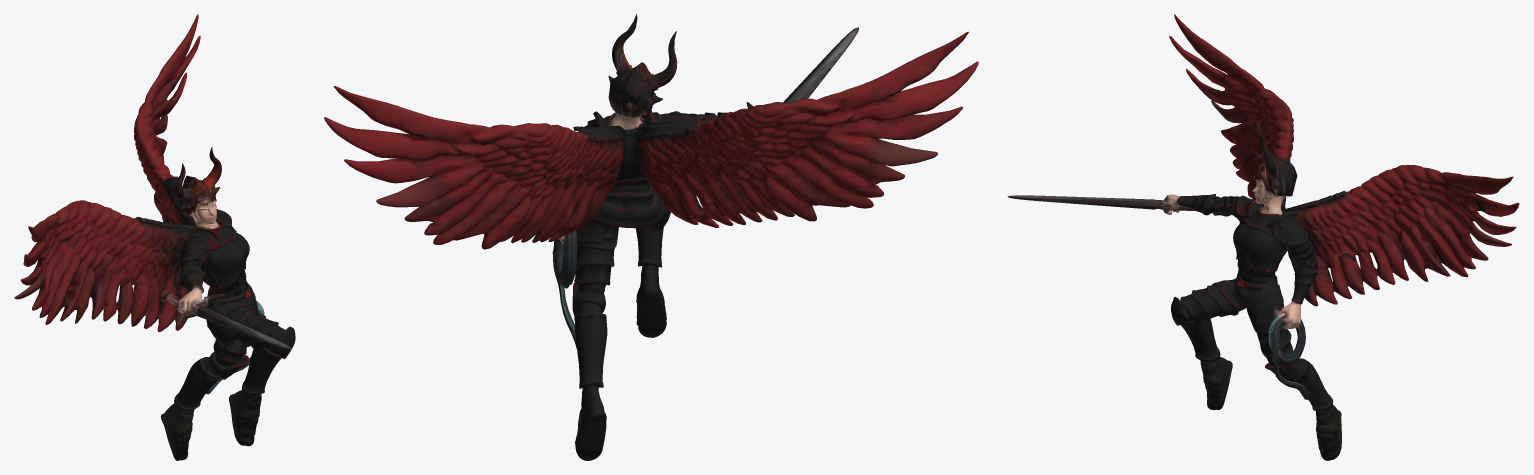
File: MZ4250 - Erinyes.glb
3 renders of one model, left to right at view 1: azimuth 30°, elevation 25°; view 2: azimuth 150°, elevation 25°; view 3: azimuth 270°, elevation 25°, orthographic. The views are drawn at different scales.
Parts seen in each view (by area): view 1: default; view 2: default; view 3: default.
Part boxes in pixels (x1,y1,x2,y2): default: [14, 14, 295, 460]; default: [324, 14, 978, 460]; default: [1007, 14, 1519, 460].
Size of the model in its own units: 1.21 by 1.14 by 1.56.
Materials: 1 (1 with a texture image).
